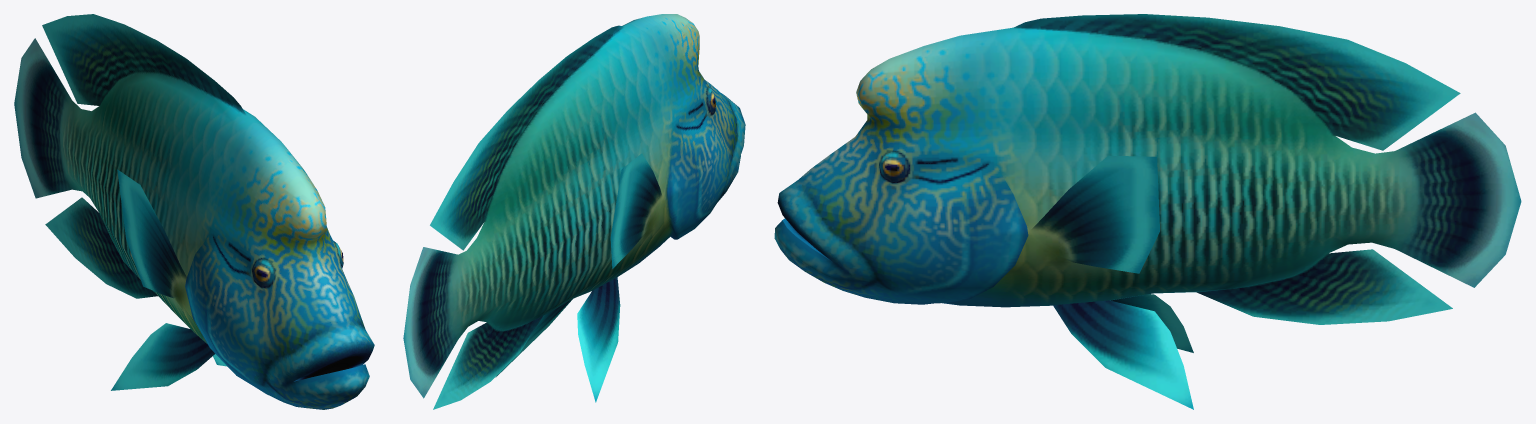
File: FishNaporeonfish.glb
The picture shows the model from 3 angles, left to right: view 1: azimuth 30°, elevation 25°; view 2: azimuth 150°, elevation 25°; view 3: azimuth 270°, elevation 25°; orthographic projection. The views are drawn at different scales.
Visible parts, largest first — view 1: FishNaporeonfish__mNaporeonfish; view 2: FishNaporeonfish__mNaporeonfish; view 3: FishNaporeonfish__mNaporeonfish.
Boxes of the visible parts, left/top/right/bottom form: FishNaporeonfish__mNaporeonfish: left=14, top=14, right=374, bottom=409; FishNaporeonfish__mNaporeonfish: left=403, top=14, right=745, bottom=409; FishNaporeonfish__mNaporeonfish: left=774, top=14, right=1521, bottom=409.
Size of the model in its own units: 4.02 by 10.18 by 18.74.
1 material, 1 textured.
